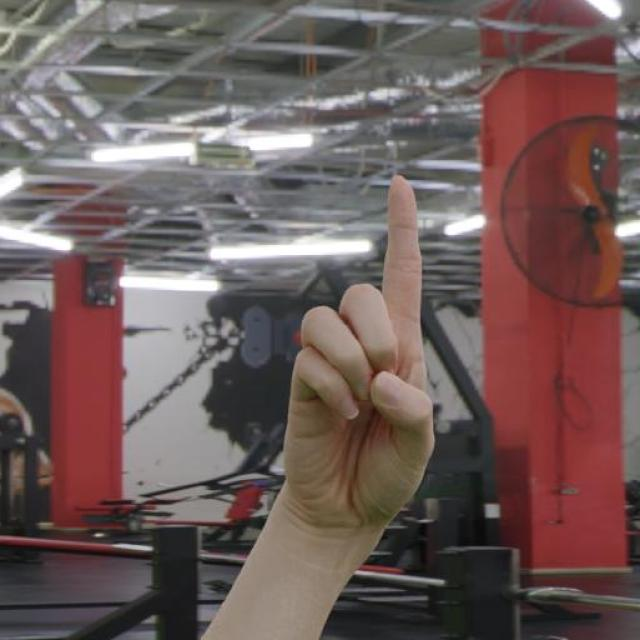D: (277, 174, 438, 531)
